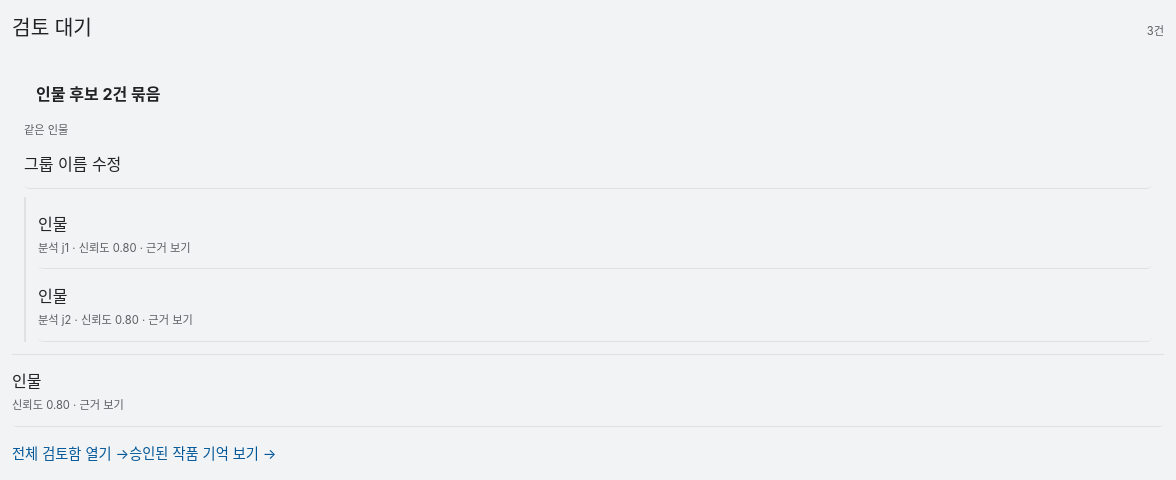
Test: WorkspaceReviewPanel › groups related candidates in the rail while keeping each member selectable
Expected: the text "인물 후보 2건 묶음" is shown, left=36, top=84, right=160, bottom=104
Expected: the text "같은 인물" is shown, left=24, top=123, right=68, bottom=137
Click the button "인물 분석 j2 · 신뢰도 0.80 · 근거 보기" at (59, 320), box left=38, top=269, right=1152, bottom=342
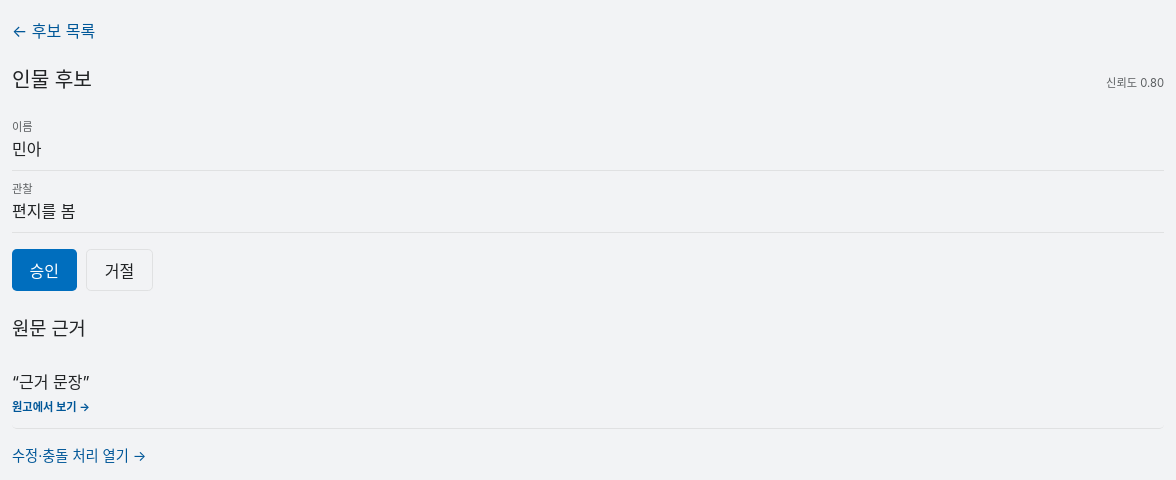
Expected: the text "민아" is shown, left=12, top=139, right=42, bottom=159
